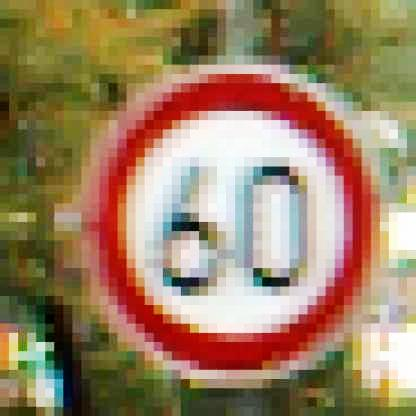Speed Limit -60-: (84, 63, 381, 383)
